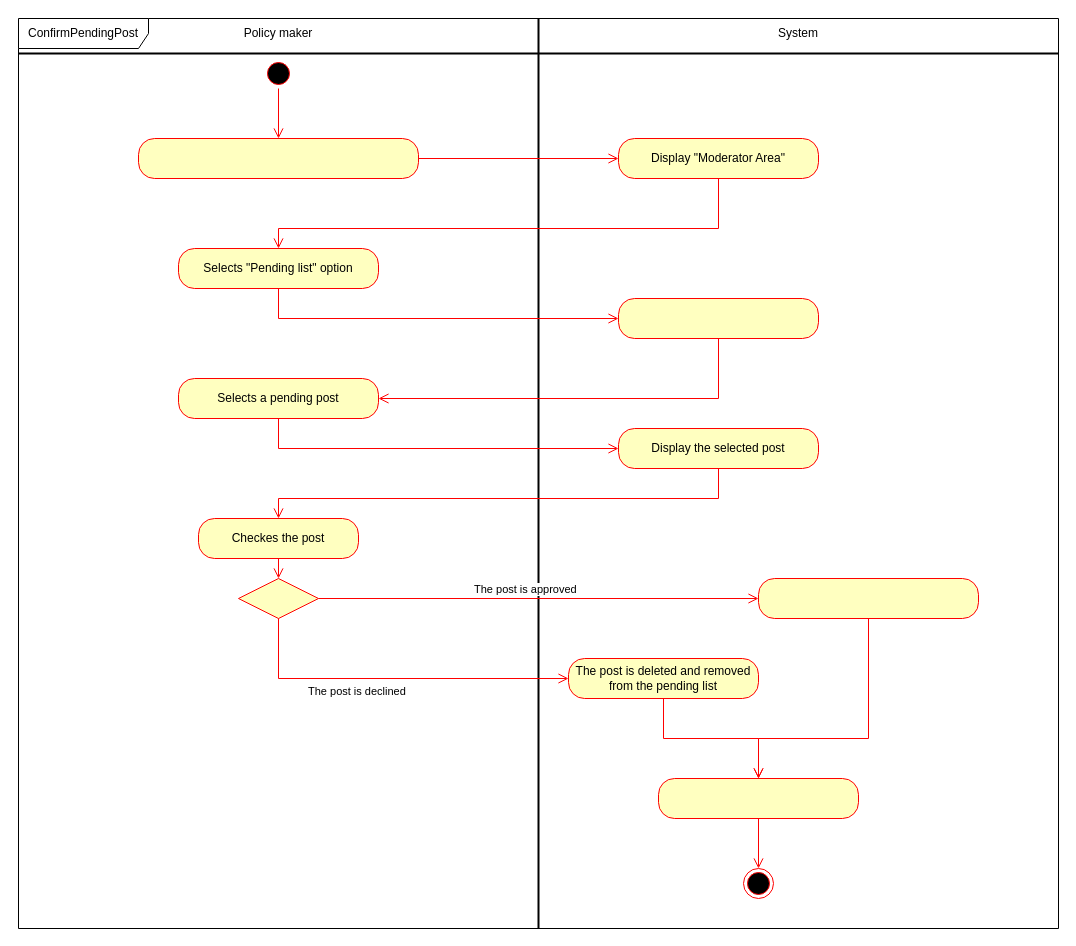
Image size: 1076x946. Some labels were removed from this diagram. Here are the shapes that lost their labels. From the top down, the centre of each, then its label:
pixel 278 158: Selects "Moderator Area"
pixel 718 318: Display the pending list
pixel 868 598: The post is published and removed from the pending list
pixel 758 798: Notify the author with an email
